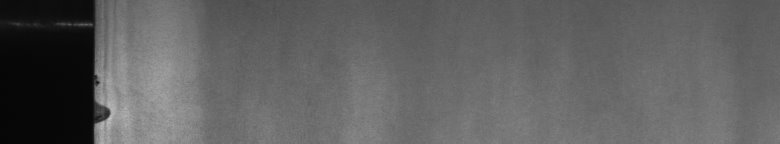hb: (104, 52, 116, 128)
